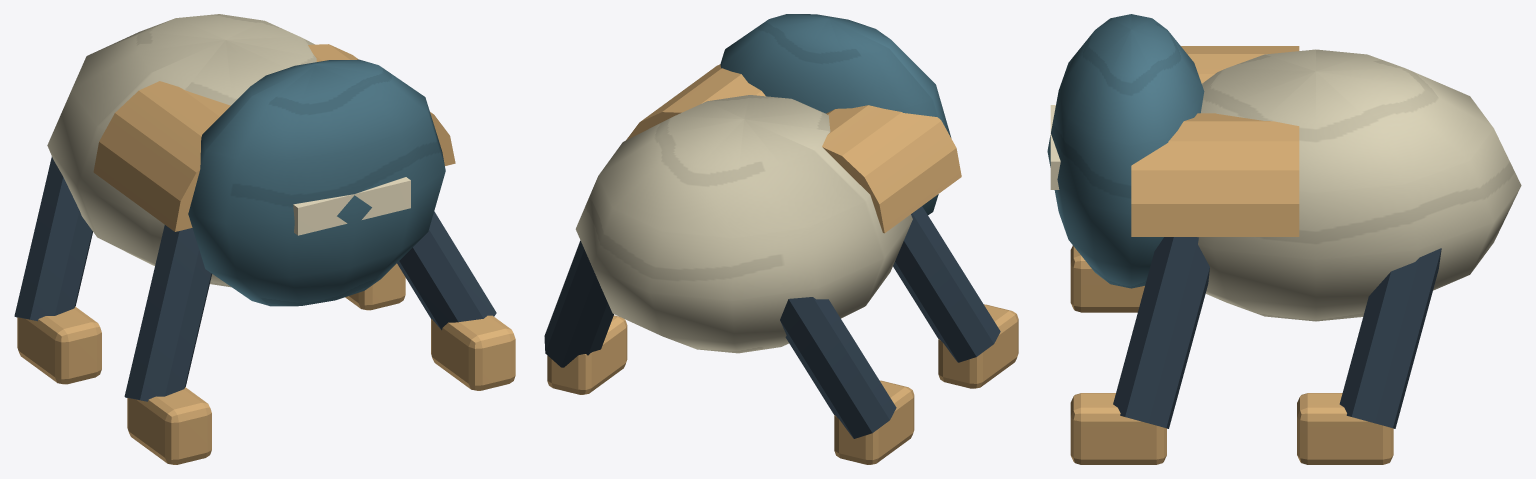
Rendered from pursuer.glb.
3 renders of one model, left to right at view 1: azimuth 30°, elevation 25°; view 2: azimuth 150°, elevation 25°; view 3: azimuth 270°, elevation 25°, orthographic. The views are drawn at different scales.
Parts seen in each view (by area): view 1: pursuer_solid; view 2: pursuer_solid; view 3: pursuer_solid.
Part boxes in pixels (bbox=[...]): pursuer_solid: bbox=[14, 14, 515, 464]; pursuer_solid: bbox=[544, 14, 1018, 464]; pursuer_solid: bbox=[1047, 14, 1521, 464].
Bounding box in the file's own units: 1.03 × 0.925 × 1.13.
Materials: 5 (2 with a texture image).
